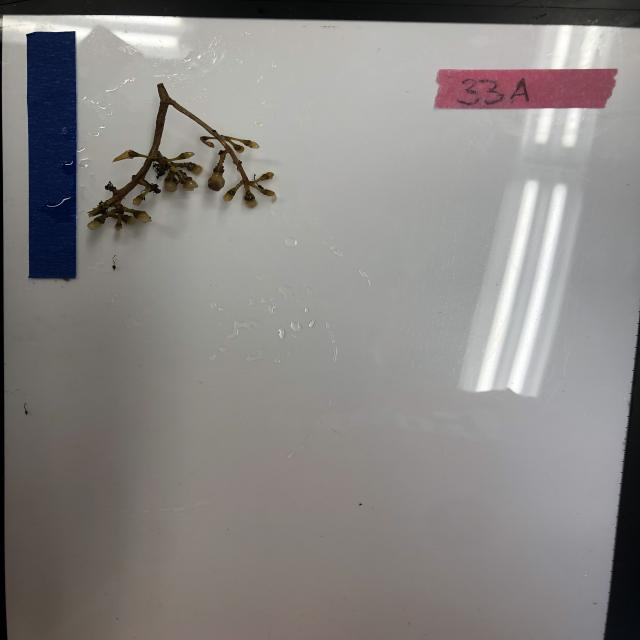index: (435, 67, 620, 114)
measure_label: (26, 30, 81, 281)
rachis_cluster: (88, 80, 282, 242)
